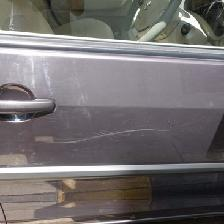door_scratch: (25, 100, 210, 166)
